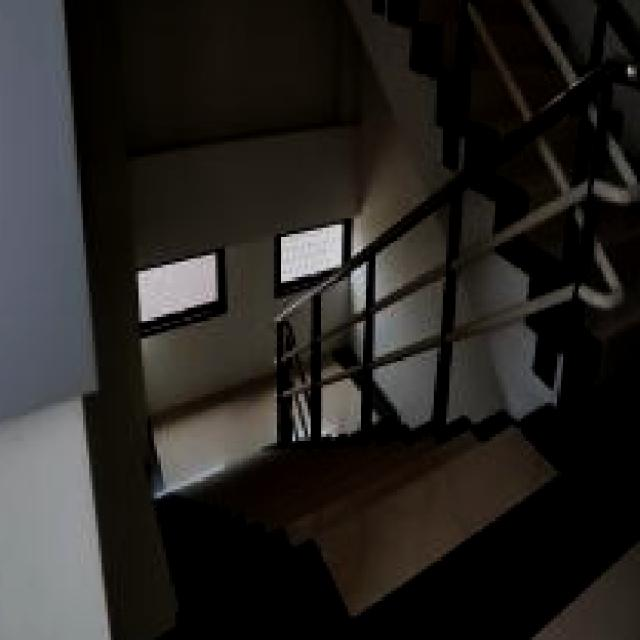downstair: (204, 475, 478, 626)
